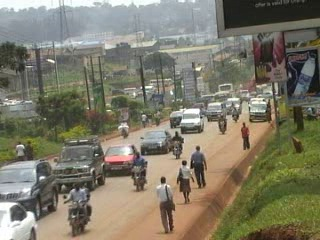Car: (0, 155, 60, 219), (48, 134, 107, 194), (0, 197, 42, 239), (104, 140, 139, 176), (137, 126, 172, 157), (179, 105, 204, 135), (168, 108, 184, 129)
Motorcycle: (61, 180, 95, 239), (130, 149, 150, 194), (169, 128, 185, 160), (216, 112, 229, 137), (116, 116, 131, 137), (228, 104, 239, 121)
